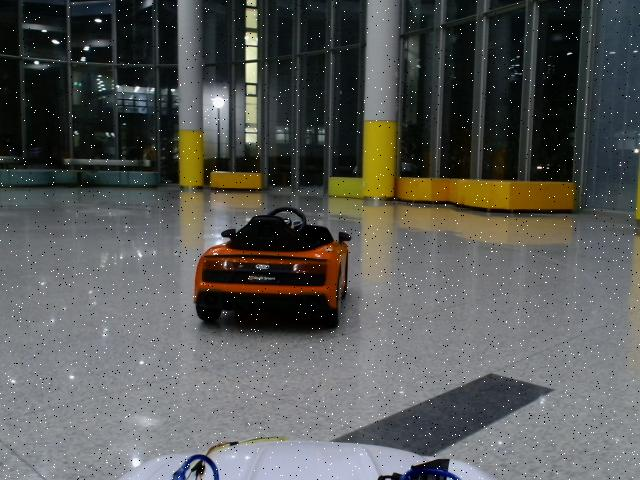car: (193, 206, 351, 326)
